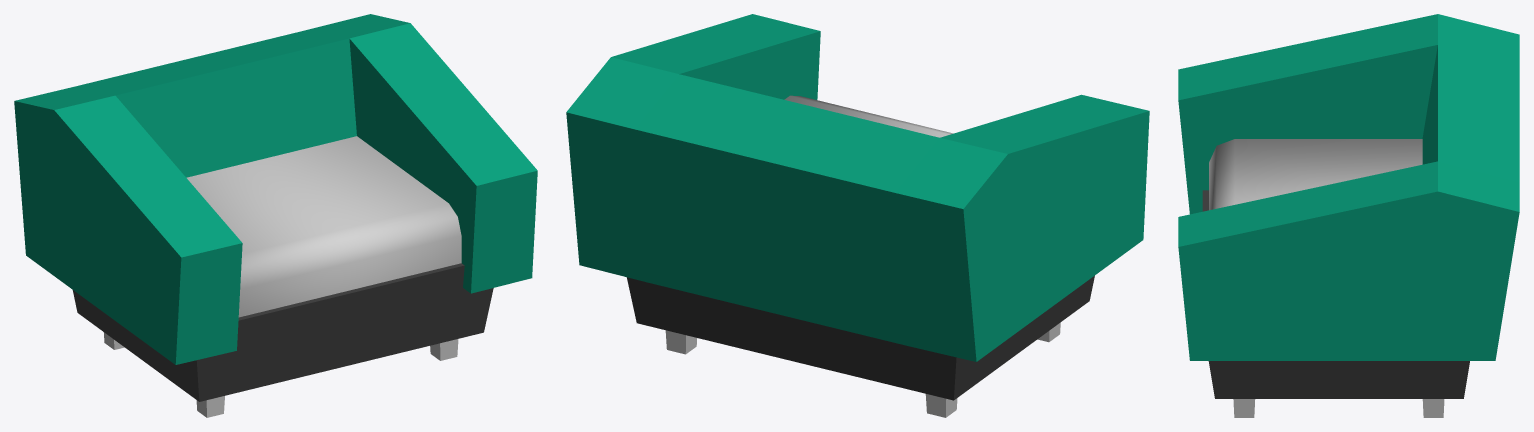
The model's file is Sofa 2 Alt.fbx.
3 renders of one model, left to right at view 1: azimuth 30°, elevation 25°; view 2: azimuth 150°, elevation 25°; view 3: azimuth 270°, elevation 25°, orthographic. The views are drawn at different scales.
Parts seen in each view (by area): view 1: Sofa 2 Alt; view 2: Sofa 2 Alt; view 3: Sofa 2 Alt.
Part boxes in pixels (box(x1,y1,x2,y2)): Sofa 2 Alt: box(14, 14, 537, 417); Sofa 2 Alt: box(566, 14, 1149, 417); Sofa 2 Alt: box(1178, 14, 1519, 417).
Bounding box in the file's own units: 115 × 76.48 × 93.56.
